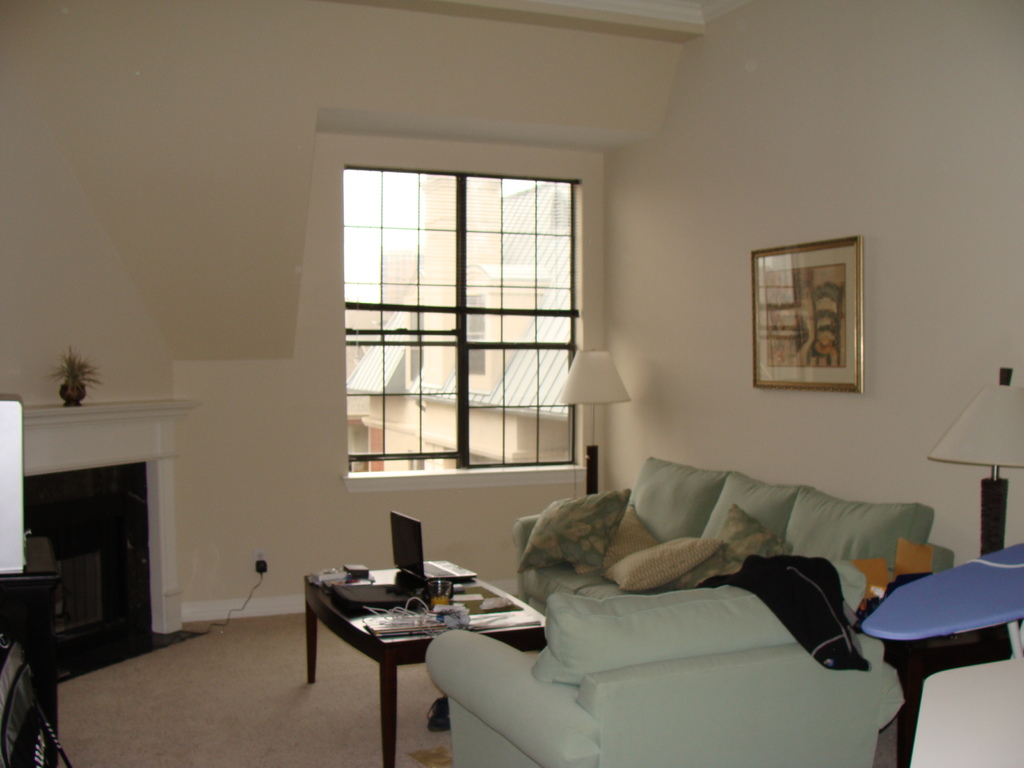Window: (345, 164, 588, 468)
